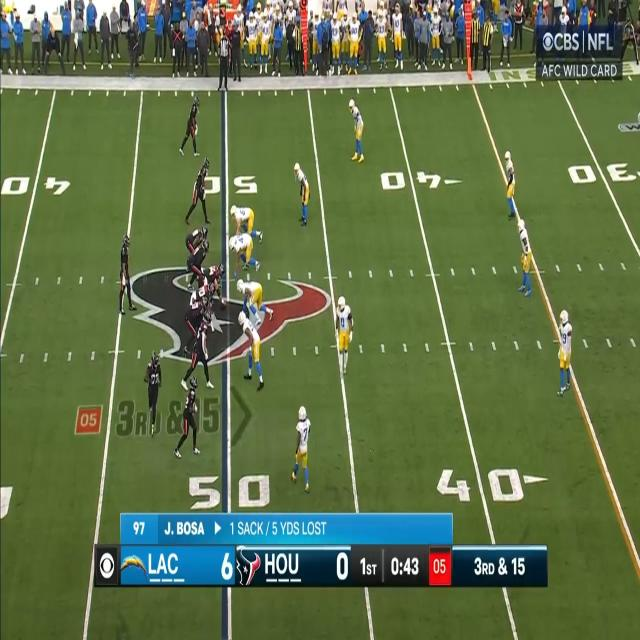Player: (238, 310, 263, 392), (295, 403, 311, 492), (193, 313, 213, 382), (190, 157, 210, 225), (182, 377, 199, 455), (147, 350, 161, 436), (229, 234, 259, 273), (337, 296, 352, 374), (518, 218, 532, 297), (558, 308, 570, 397), (349, 99, 365, 165), (237, 275, 264, 314), (294, 162, 310, 225), (185, 96, 199, 160), (120, 232, 131, 312), (504, 150, 516, 223), (188, 241, 210, 278), (186, 298, 209, 330), (231, 204, 254, 232), (200, 262, 223, 286), (191, 284, 214, 302)
Referee: (219, 30, 231, 91)
